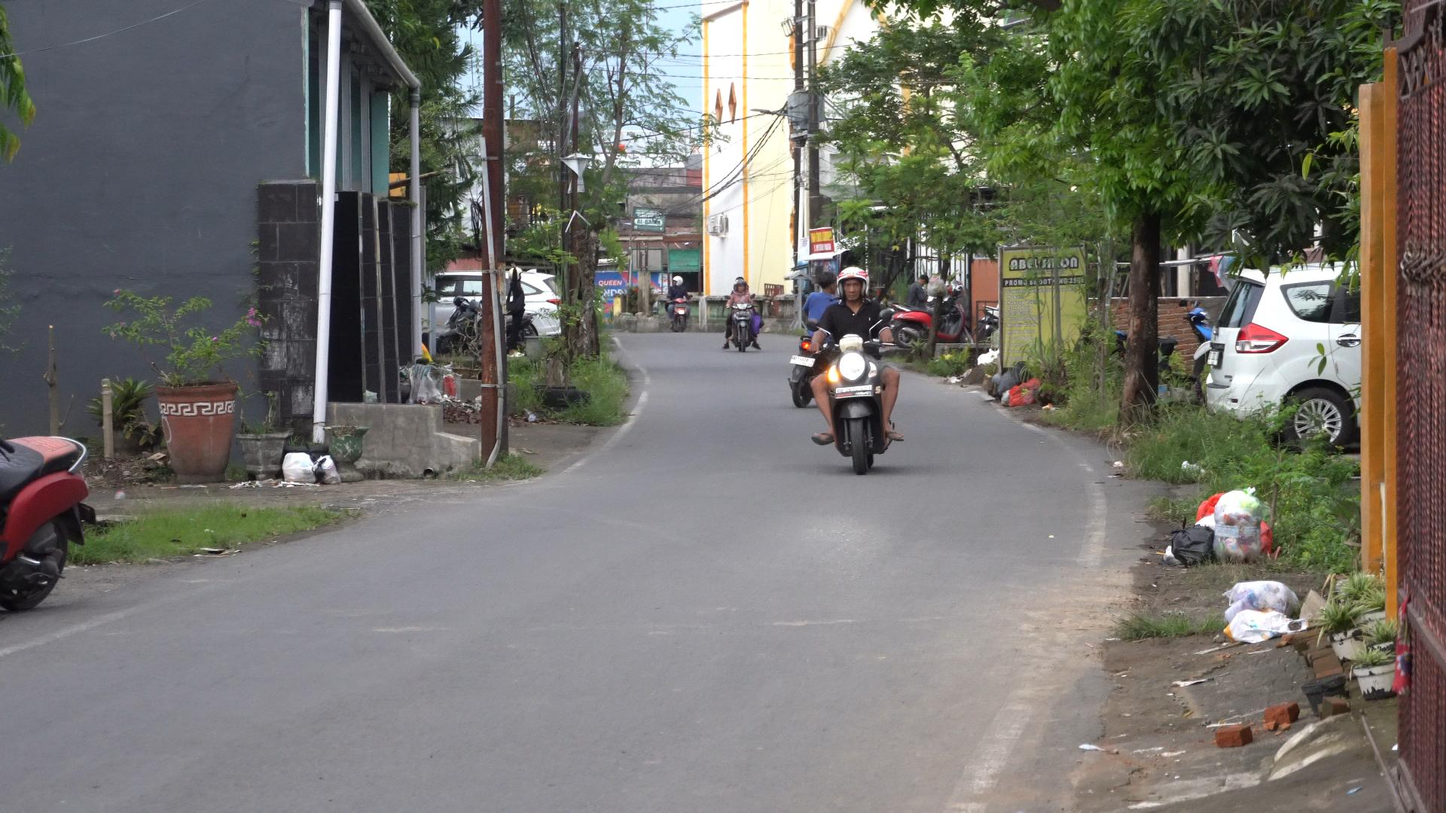number-plate: (835, 385, 874, 399)
